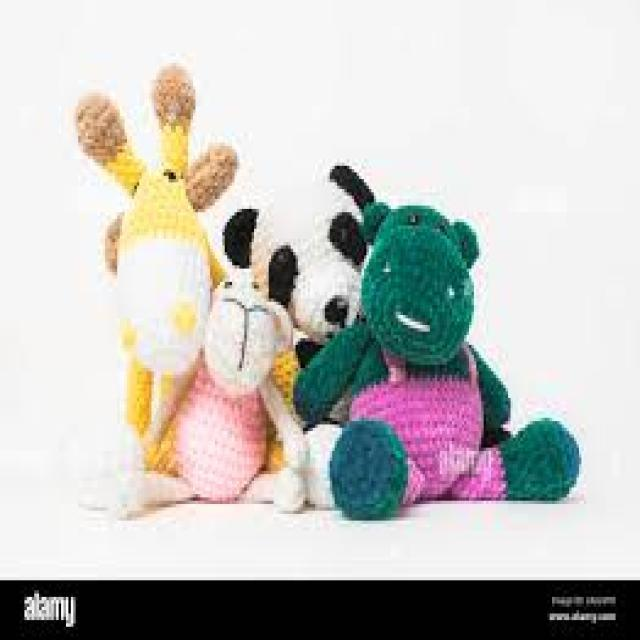soft-toy: (295, 166, 581, 521), (77, 66, 239, 453), (124, 211, 306, 517), (270, 212, 370, 344)
